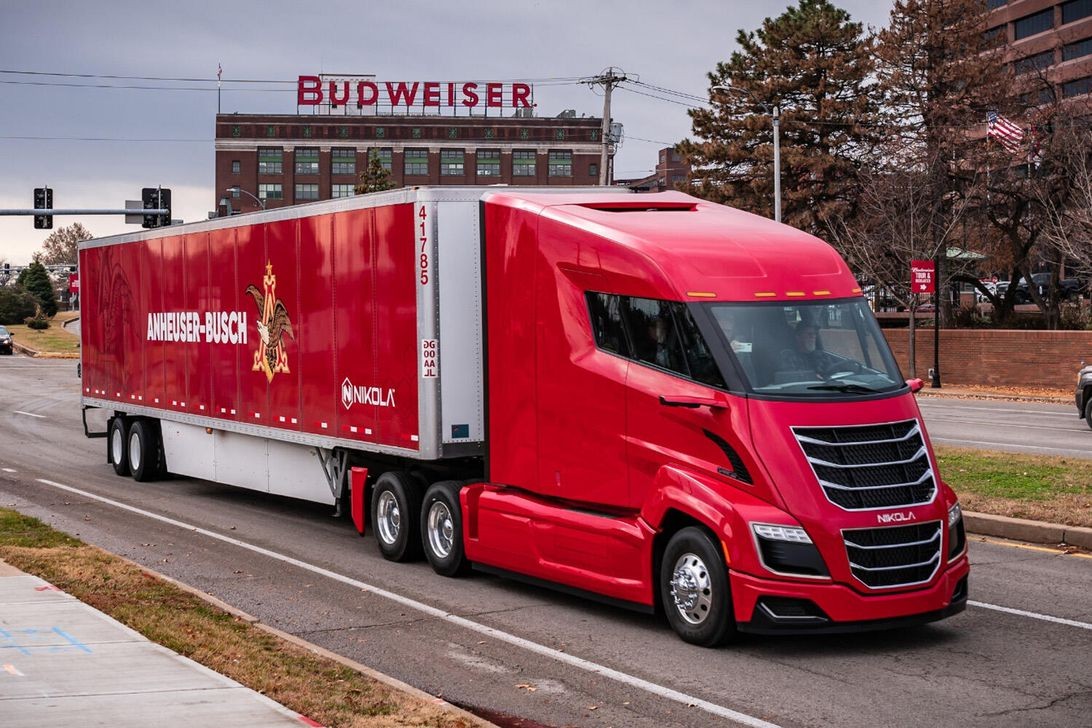truck: (29, 67, 996, 625), (29, 123, 996, 625), (61, 219, 986, 612)
